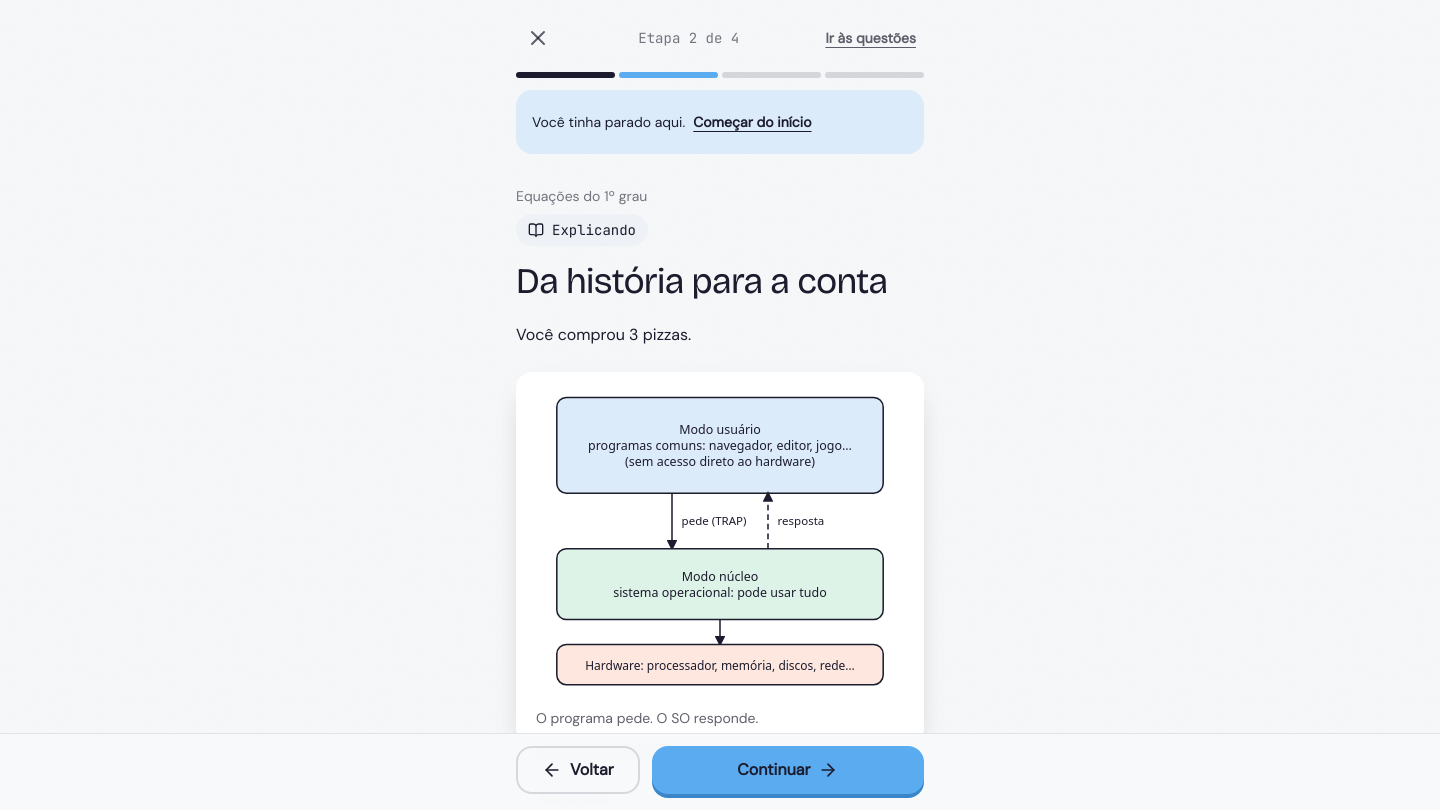
Test: LessonStepper › retomar de onde parou › o aviso some assim que a pessoa avança
Check: the text "Você tinha parado aqui." is shown, box top-left (532, 112), bottom-right (685, 132)
Click the button "Continuar". click: (788, 770)
box: top-left (652, 746), bottom-right (924, 794)
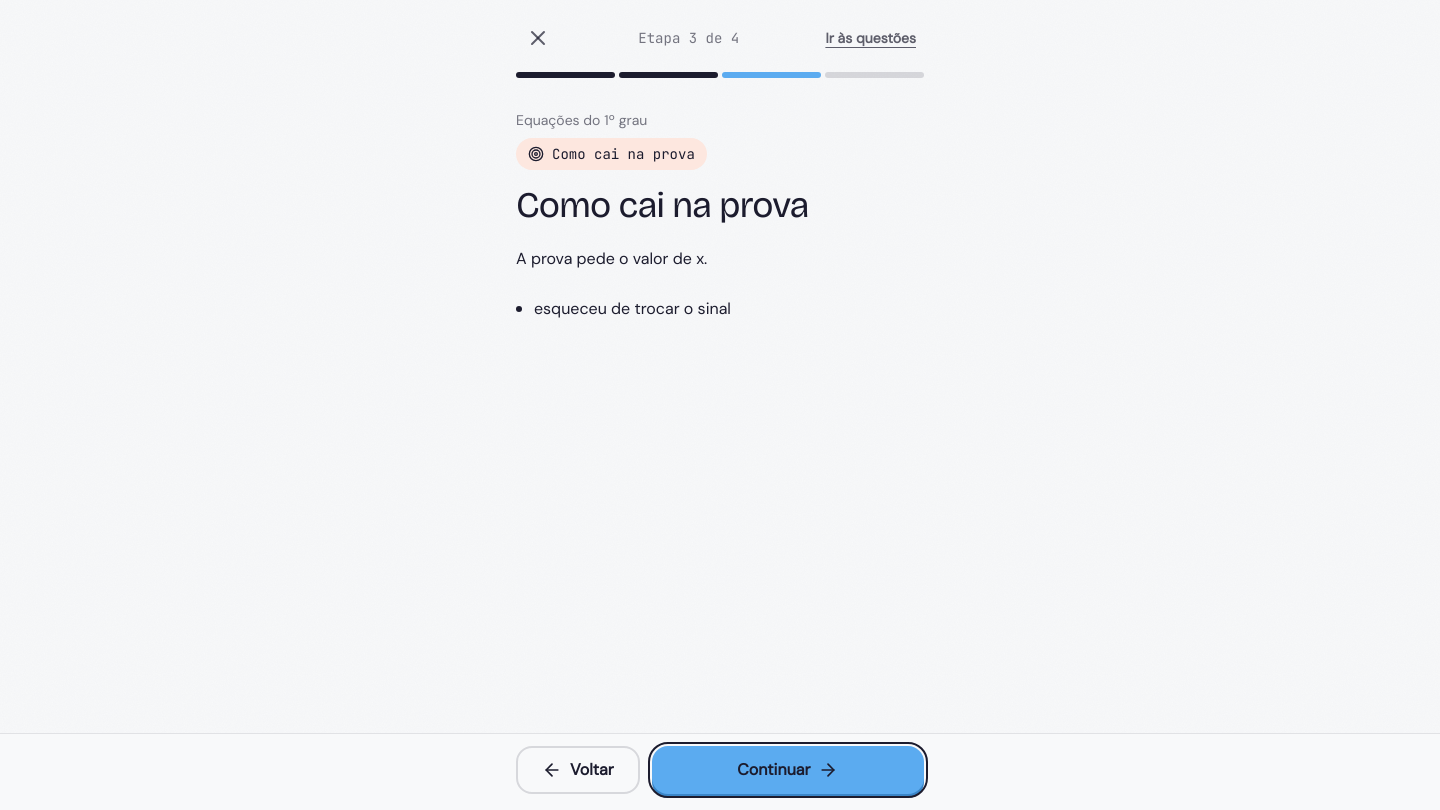
Check: the text "Você tinha parado aqui." is gone
